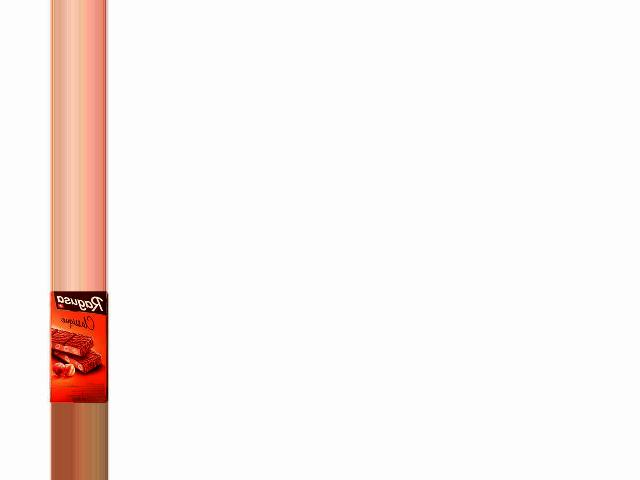chocolate: (43, 292, 111, 403)
